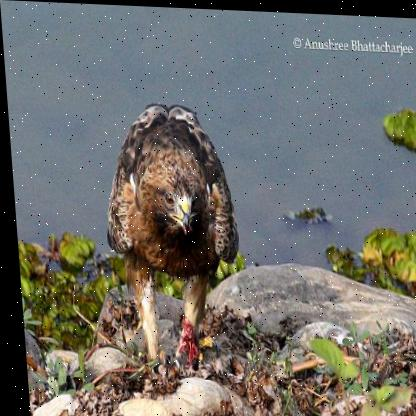Burung: (96, 98, 244, 378)
